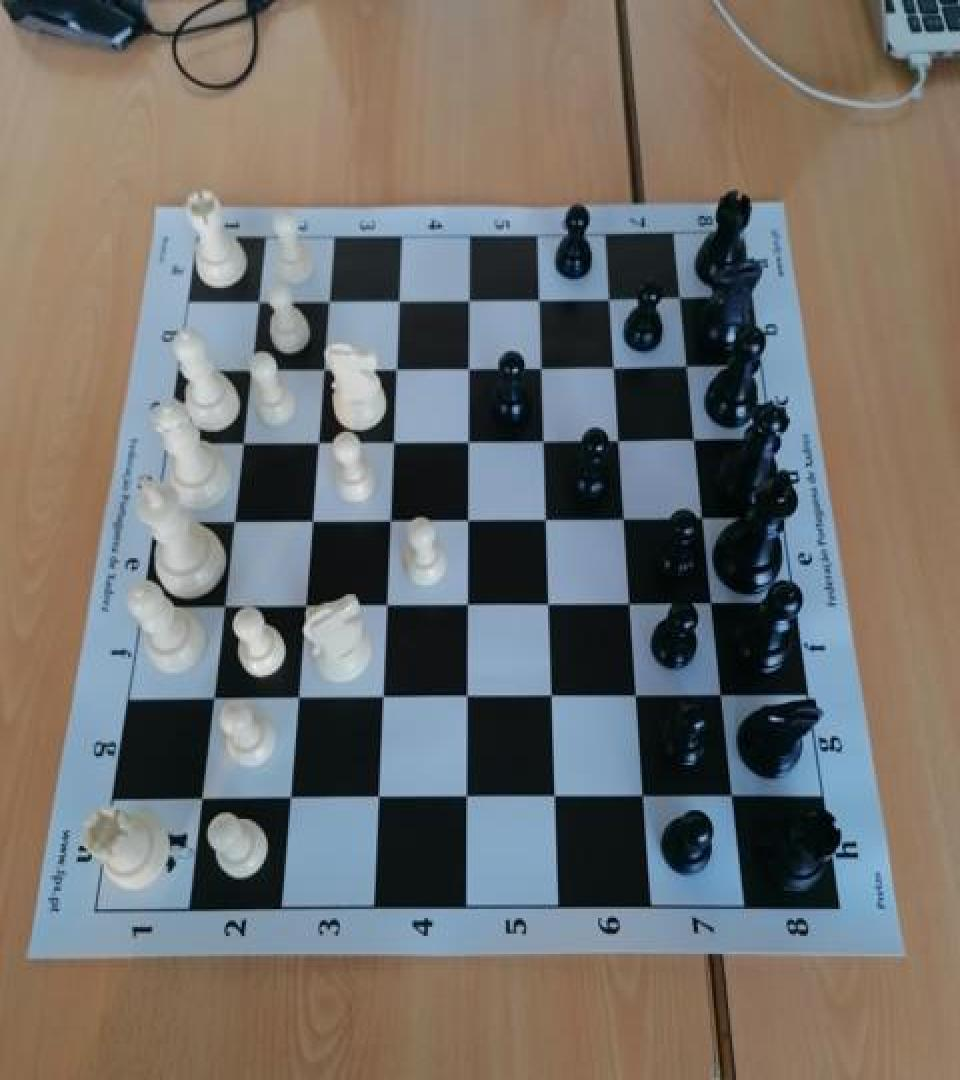xcorner: (667, 280, 697, 314), (597, 280, 627, 314), (527, 280, 557, 314), (457, 280, 487, 314), (387, 281, 417, 315), (317, 281, 347, 315), (246, 281, 276, 315), (675, 348, 705, 382), (602, 348, 632, 382), (529, 348, 559, 382), (456, 348, 486, 382), (384, 348, 414, 382), (311, 350, 341, 384), (239, 350, 269, 384), (607, 422, 637, 456), (531, 422, 561, 456), (456, 422, 486, 456), (381, 422, 411, 456), (305, 423, 335, 457), (230, 423, 260, 457), (377, 502, 407, 536), (299, 502, 329, 536), (221, 502, 251, 536), (700, 586, 730, 620), (618, 586, 648, 620), (537, 586, 567, 620), (455, 586, 485, 620), (374, 587, 404, 621), (292, 587, 322, 621), (211, 587, 241, 621), (709, 678, 739, 712), (624, 678, 654, 712), (539, 678, 569, 712), (455, 680, 485, 714), (370, 680, 400, 714), (285, 680, 315, 714), (200, 680, 230, 714), (720, 778, 750, 812), (631, 780, 661, 814), (543, 780, 573, 814), (454, 780, 484, 814), (365, 780, 395, 814), (277, 780, 307, 814), (188, 780, 218, 814), (682, 421, 712, 454), (691, 501, 721, 534), (612, 501, 642, 534), (534, 501, 564, 534), (456, 501, 486, 534)
